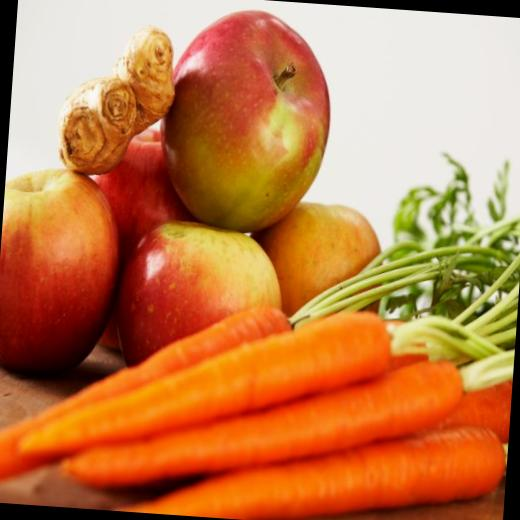Apple: (144, 0, 341, 242), (109, 218, 286, 386), (0, 160, 129, 387), (80, 120, 194, 295)
